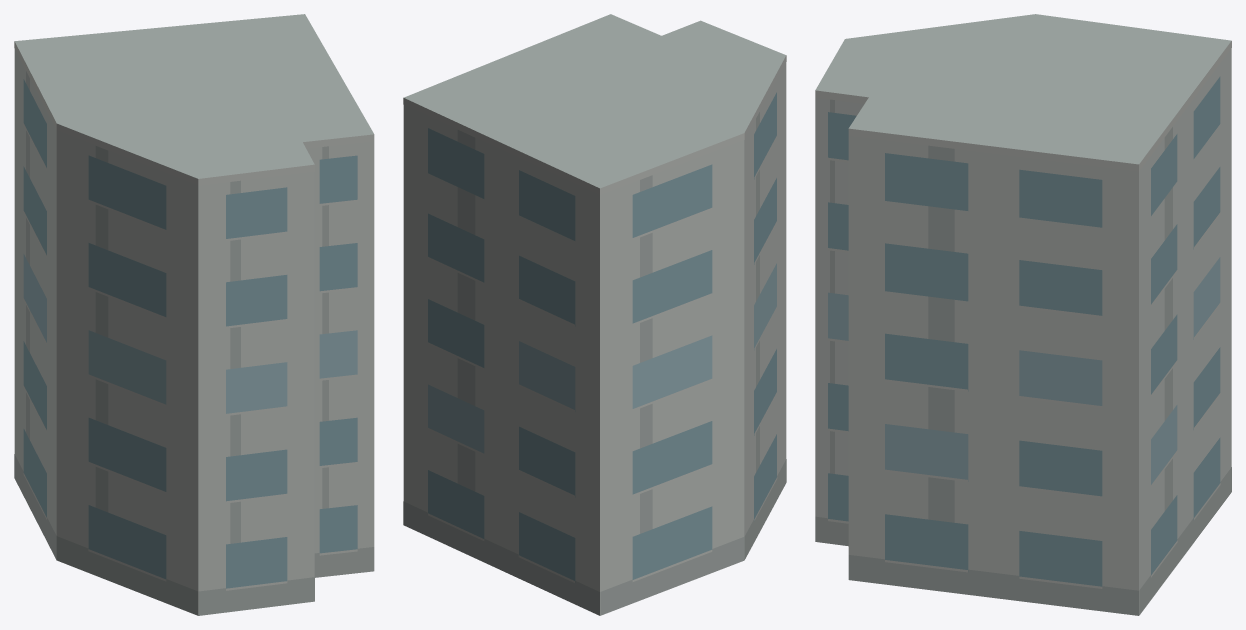
Rendered from survey-upis-32511776.glb.
3 views of the same model, side by side, from view 1: azimuth 30°, elevation 25°; view 2: azimuth 150°, elevation 25°; view 3: azimuth 270°, elevation 25° (orthographic). The views are drawn at different scales.
Visible parts, largest first — view 1: survey-upis-32511776.tmp; view 2: survey-upis-32511776.tmp; view 3: survey-upis-32511776.tmp.
Boxes of the visible parts, <box> form: survey-upis-32511776.tmp: <box>14,14,374,615</box>; survey-upis-32511776.tmp: <box>403,14,786,615</box>; survey-upis-32511776.tmp: <box>815,14,1231,615</box>.
Size of the model in its own units: 10.91 by 15.25 by 12.76.
